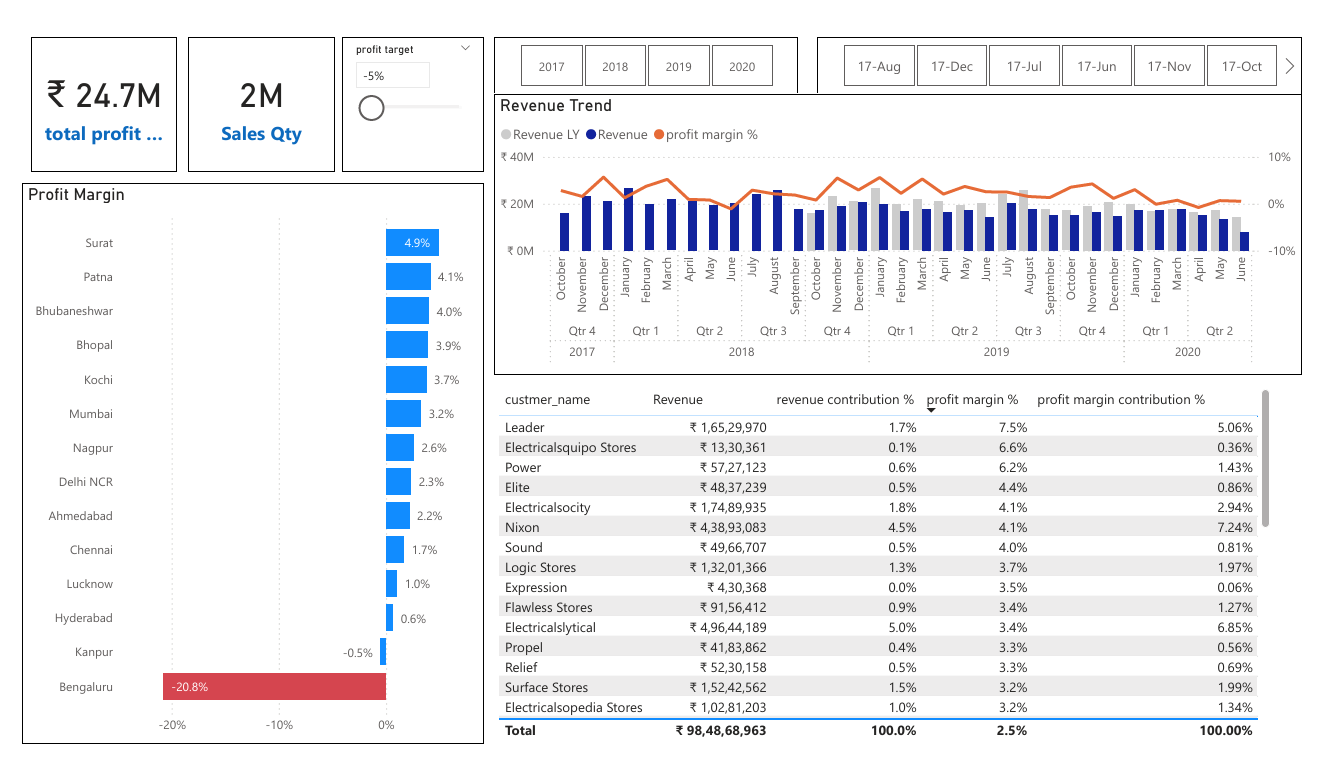

The dashboard page shown, as its layout file describes it:
{"tool":"powerbi","page":{"name":"performance analysis ","canvas":[1280,720],"ordinal":2},"visuals":[{"type":"card","fields":{"Values":["BaseMeasures.profit margin"]},"box":[8.6,12.9,146.6,135.4],"z":0},{"type":"slicer","fields":{"Values":["sales date.year"]},"box":[471.8,12.9,304.5,56.9],"z":1000},{"type":"slicer","fields":{"Values":["sales date.date_yy_mmm"]},"box":[795.3,12.9,484.7,56.9],"z":2000},{"type":"lineClusteredColumnComboChart","title":"Revenue Trend ","fields":{"Category":["sales date.cy_date.Variation.Date Hierarchy.Year","sales date.cy_date.Variation.Date Hierarchy.Quarter","sales date.cy_date.Variation.Date Hierarchy.Month"],"Y":["BaseMeasures.Revenue LY","BaseMeasures.Revenue"],"Y2":["BaseMeasures.profit margin %"]},"box":[471.8,69.9,808.2,281.2],"z":3000},{"type":"card","fields":{"Values":["BaseMeasures.sales Qty"]},"box":[166.5,12.9,146.6,135.4],"z":4000},{"type":"tableEx","fields":{"Values":["sales customers.custmer_name","BaseMeasures.Revenue","BaseMeasures.revenue contribution %","BaseMeasures.profit margin %","BaseMeasures.profit margin contribution %"]},"box":[471.8,359.7,781.5,360.5],"z":5000},{"type":"slicer","fields":{"Values":["profit target.profit target"]},"box":[320,12.9,142.3,135.4],"z":6000},{"type":"barChart","title":"Profit Margin","fields":{"Category":["sales markets.markets_name","sales customers.custmer_name","sales markets.zone"],"Y":["BaseMeasures.profit margin %"]},"box":[0,158.7,462.3,561.5],"z":7000}]}

Visuals, with their boxes in screenshot pixels (x1, y1, x2, y2), scaled from the page's 1280x720 canvas onto the 1324x765 screenshot:
card - BaseMeasures.profit margin: box(9, 14, 161, 158)
slicer - sales date.year: box(488, 14, 803, 74)
slicer - sales date.date_yy_mmm: box(823, 14, 1323, 74)
"Revenue Trend " lineClusteredColumnComboChart: box(488, 74, 1323, 373)
card - BaseMeasures.sales Qty: box(172, 14, 324, 158)
tableEx - sales customers.custmer_name x BaseMeasures.Revenue: box(488, 382, 1296, 764)
slicer - profit target.profit target: box(331, 14, 478, 158)
"Profit Margin" barChart: box(0, 169, 478, 764)
